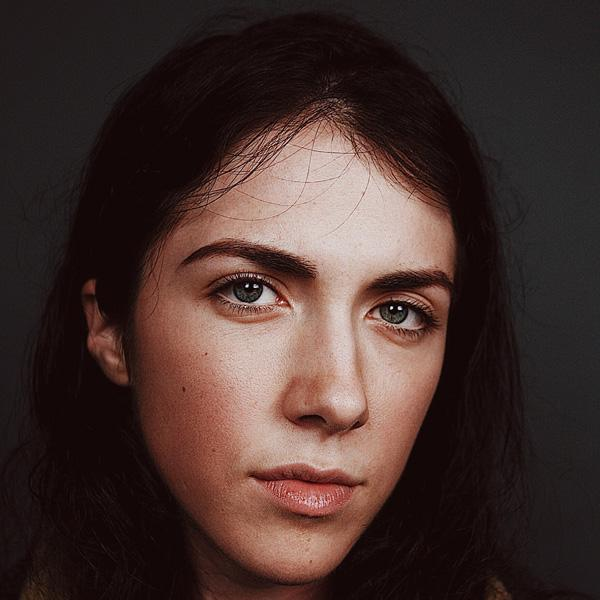Eyes: (194, 258, 297, 324), (354, 276, 438, 345)
